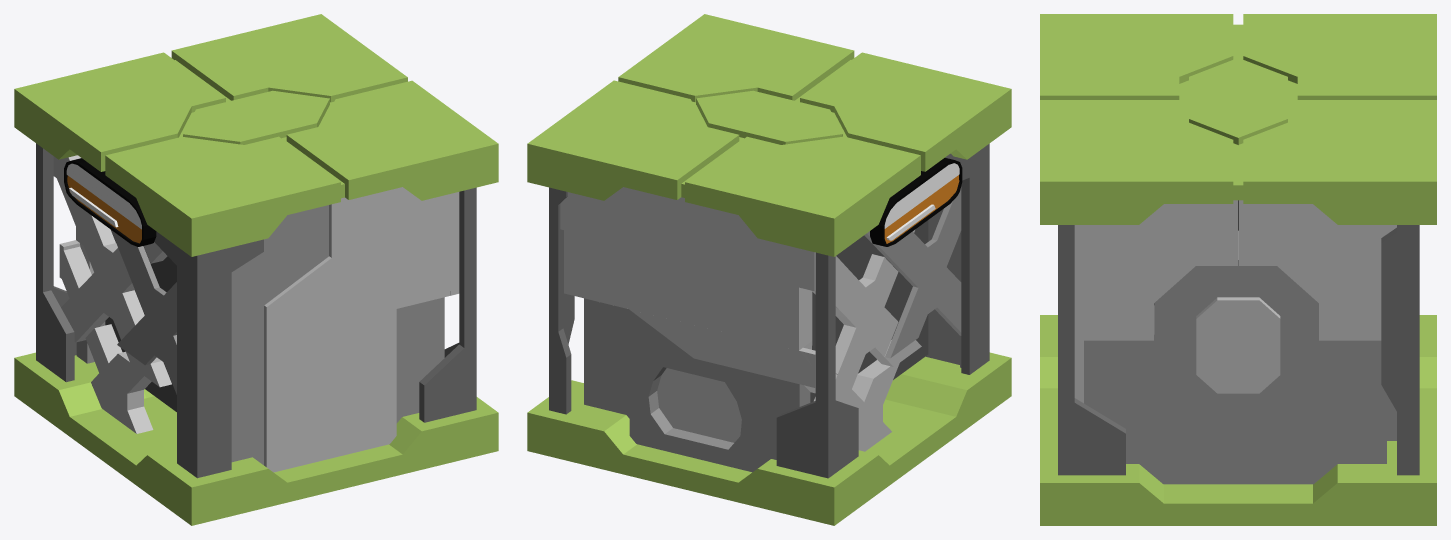
File: barruGadjet.glb
3 views of the same model, side by side, from view 1: azimuth 30°, elevation 25°; view 2: azimuth 150°, elevation 25°; view 3: azimuth 270°, elevation 25° (orthographic). The views are drawn at different scales.
Parts seen in each view (by area): view 1: Tapa, Pieza2, Base, Cruz2, Palo3, Cruz1, Palo2, Palo4, Cruz3, Pieza1, Plane, Nucleo (+2 smaller); view 2: Tapa, Base, Cruz3, Cruz1, Pieza3, Cruz2, Palo4, Palo3, Pieza1, Boton2, Palo1, Nucleo (+3 smaller); view 3: Tapa, Pieza1, Base, Pieza2, Palo1, Cruz1, Palo2, Boton1, Cruz3.
Boxes of the visible parts, x1,y1,x2,y2 form: Tapa: [14, 14, 498, 256]; Pieza2: [264, 187, 459, 472]; Base: [14, 352, 498, 525]; Cruz2: [111, 205, 328, 464]; Palo3: [154, 231, 263, 478]; Cruz1: [53, 155, 171, 387]; Palo2: [419, 187, 476, 422]; Palo4: [36, 143, 76, 382]; Cruz3: [59, 227, 153, 433]; Pieza1: [396, 297, 444, 423]; Plane: [64, 158, 156, 246]; Nucleo: [105, 230, 176, 411]; Tapa: [527, 14, 1011, 256]; Base: [527, 352, 1011, 525]; Cruz3: [564, 230, 899, 451]; Cruz1: [560, 187, 921, 403]; Pieza3: [629, 310, 810, 472]; Cruz2: [864, 187, 961, 367]; Palo4: [776, 252, 858, 478]; Palo3: [945, 143, 989, 374]; Pieza1: [584, 298, 629, 418]; Boton2: [657, 368, 741, 442]; Palo1: [549, 187, 574, 414]; Nucleo: [810, 220, 928, 402]; Tapa: [1040, 14, 1436, 224]; Pieza1: [1084, 230, 1386, 484]; Base: [1040, 315, 1436, 525]; Pieza2: [1074, 200, 1237, 403]; Palo1: [1381, 225, 1419, 475]; Cruz1: [1239, 200, 1396, 265]; Palo2: [1058, 225, 1125, 475]; Boton1: [1196, 297, 1280, 393]; Cruz3: [1277, 266, 1381, 340].
Size of what is drawn, in the model's own units: 2 by 1.91 by 2.
